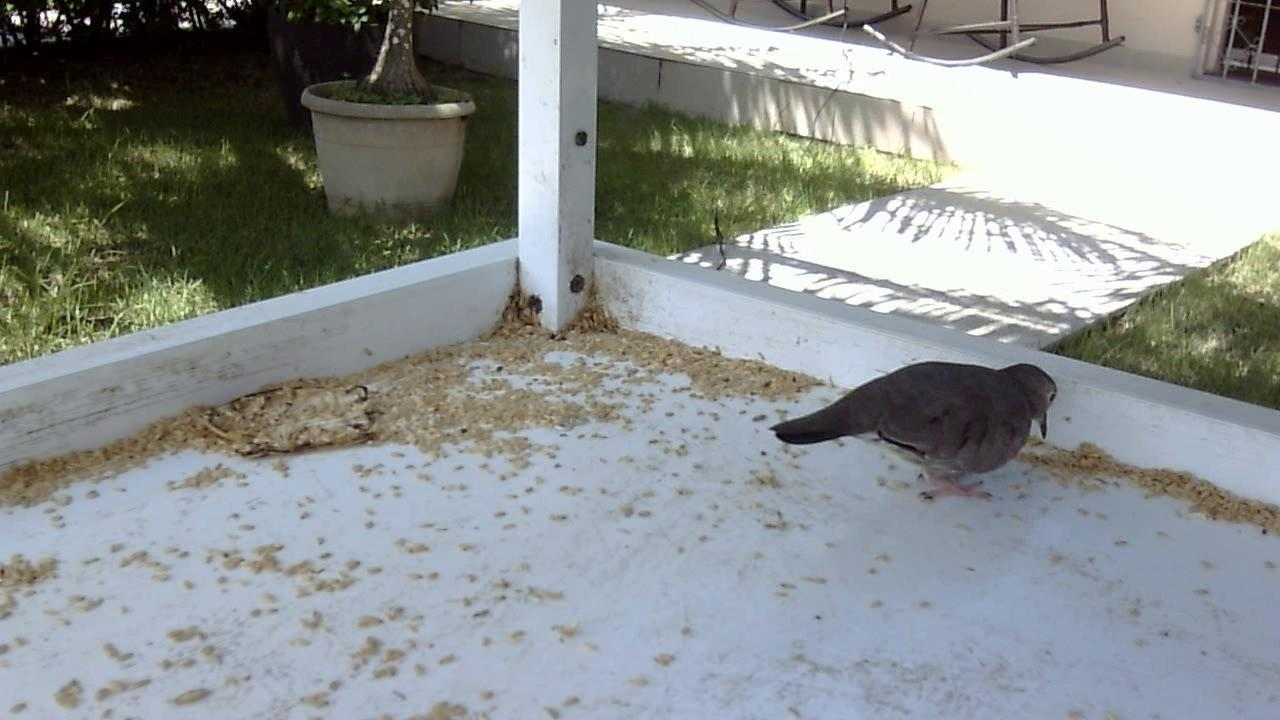rolinha: (766, 343, 1059, 507)
